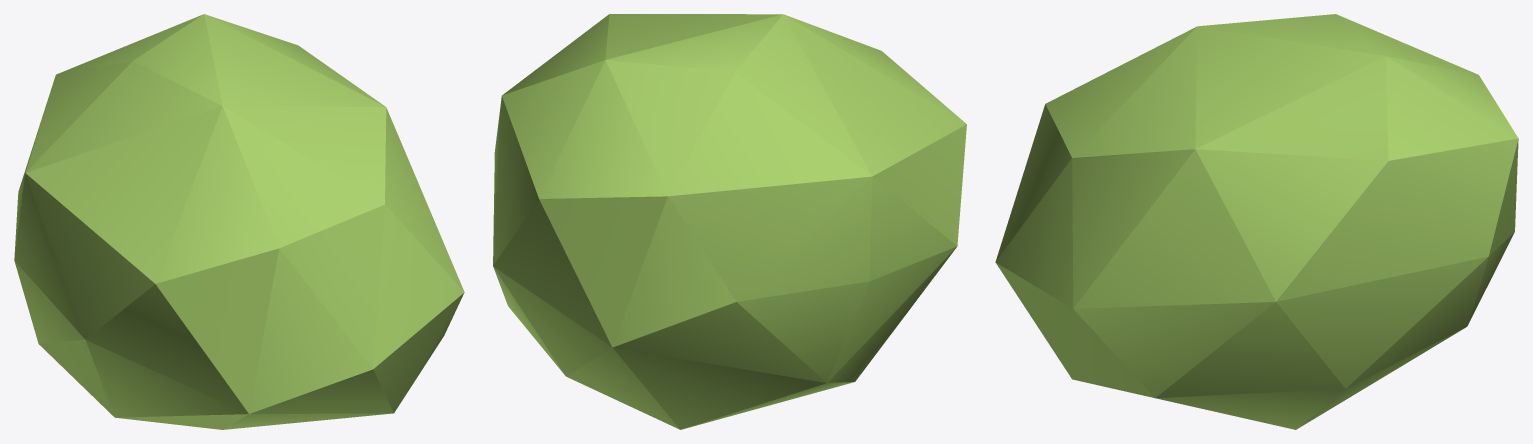
Rendered from Bush_g_m_04.fbx.
3 views of the same model, side by side, from view 1: azimuth 30°, elevation 25°; view 2: azimuth 150°, elevation 25°; view 3: azimuth 270°, elevation 25° (orthographic). The views are drawn at different scales.
Visible parts, largest first — view 1: Bush_g_m_04; view 2: Bush_g_m_04; view 3: Bush_g_m_04.
Boxes of the visible parts, left/top/right/bottom form: Bush_g_m_04: left=14, top=14, right=464, bottom=429; Bush_g_m_04: left=493, top=14, right=966, bottom=429; Bush_g_m_04: left=995, top=14, right=1518, bottom=429.
Bounding box in the file's own units: 126 × 112 × 146.
